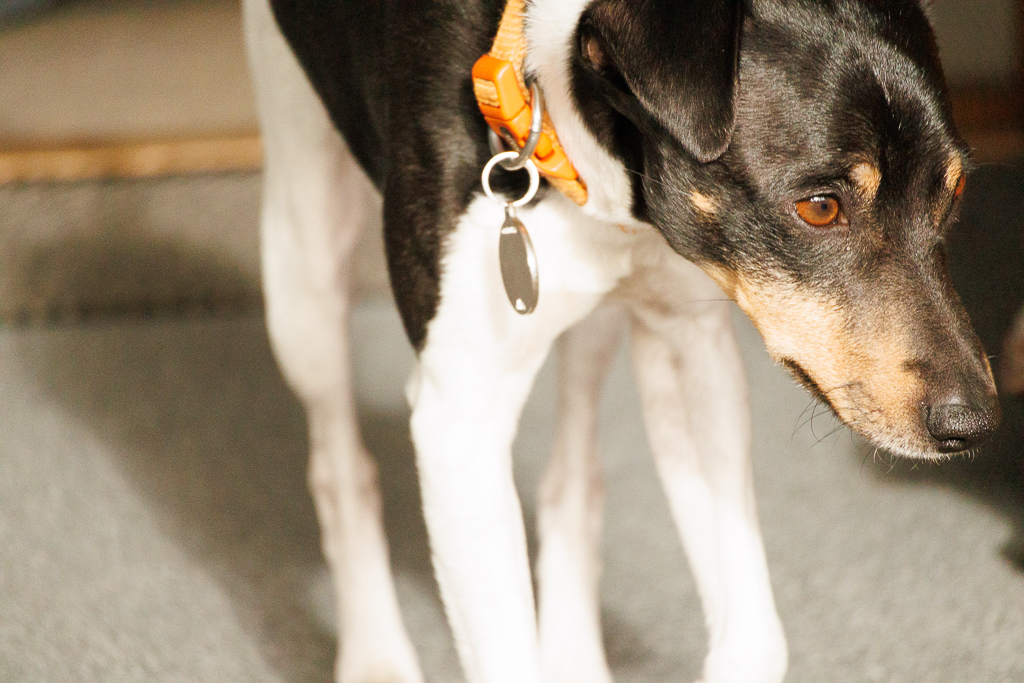Dog: (223, 0, 1018, 683)
